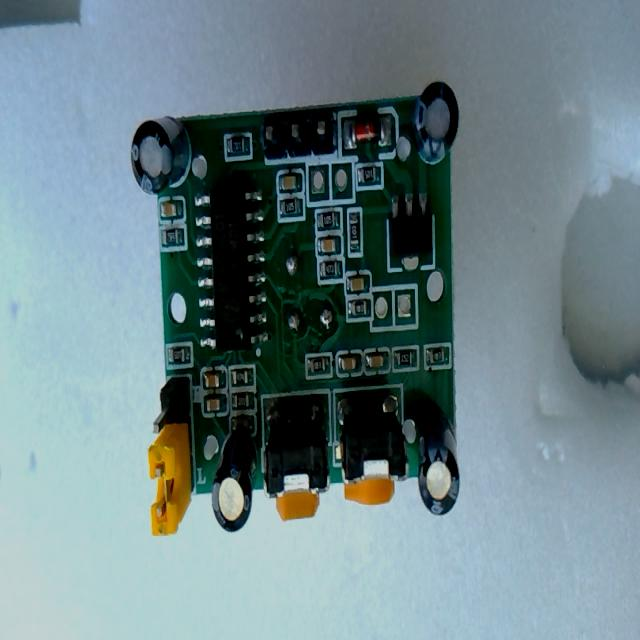Electrolytic capacitor: (128, 116, 192, 196), (210, 428, 256, 534), (418, 410, 460, 516), (411, 80, 459, 166)
IC: (195, 189, 269, 351)
pinheader: (260, 110, 336, 160)
